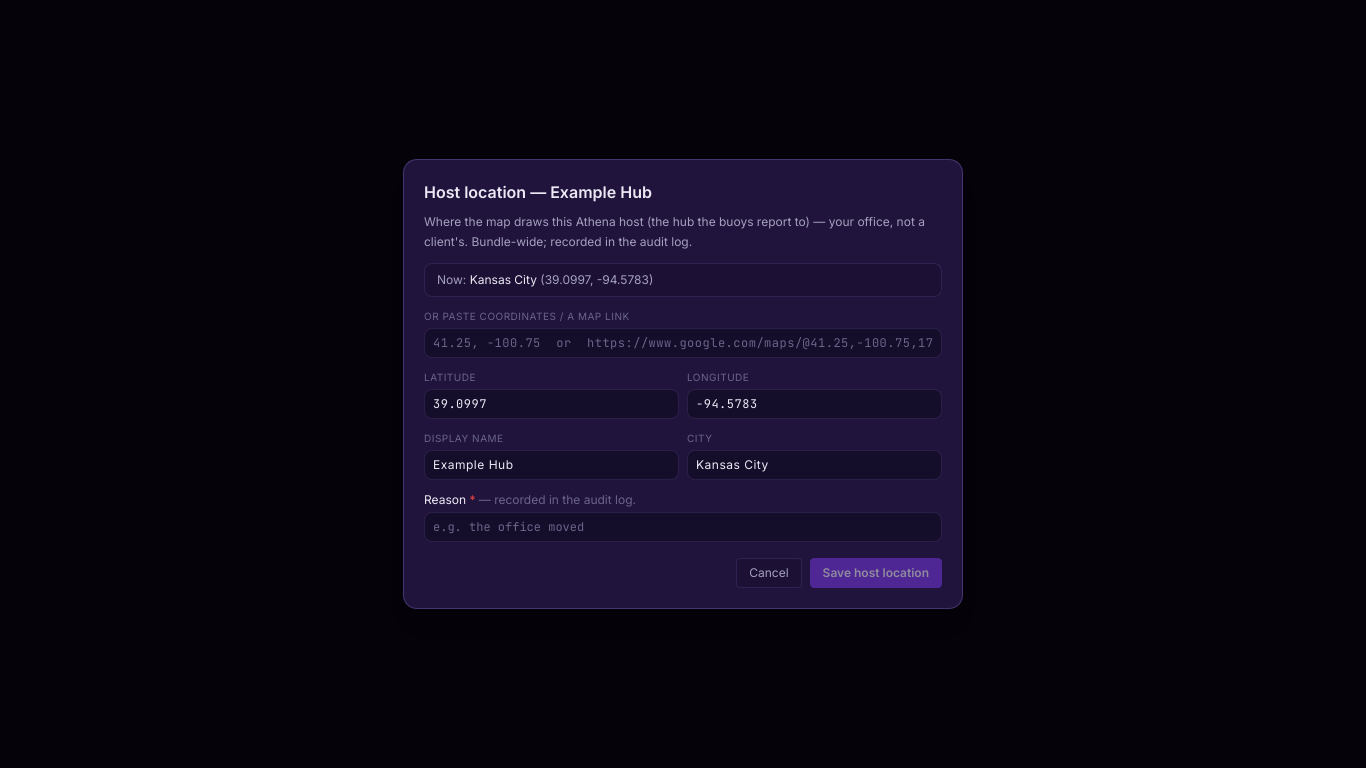
Test case: host location dialog › no Find when the lookup is off; a pasted map link works
Replace the text in the field named "paste coordinates or map link" with "https://www.google.com/maps/@41.26,-100.75,17z". click: [683, 343]
box: [424, 328, 942, 358]
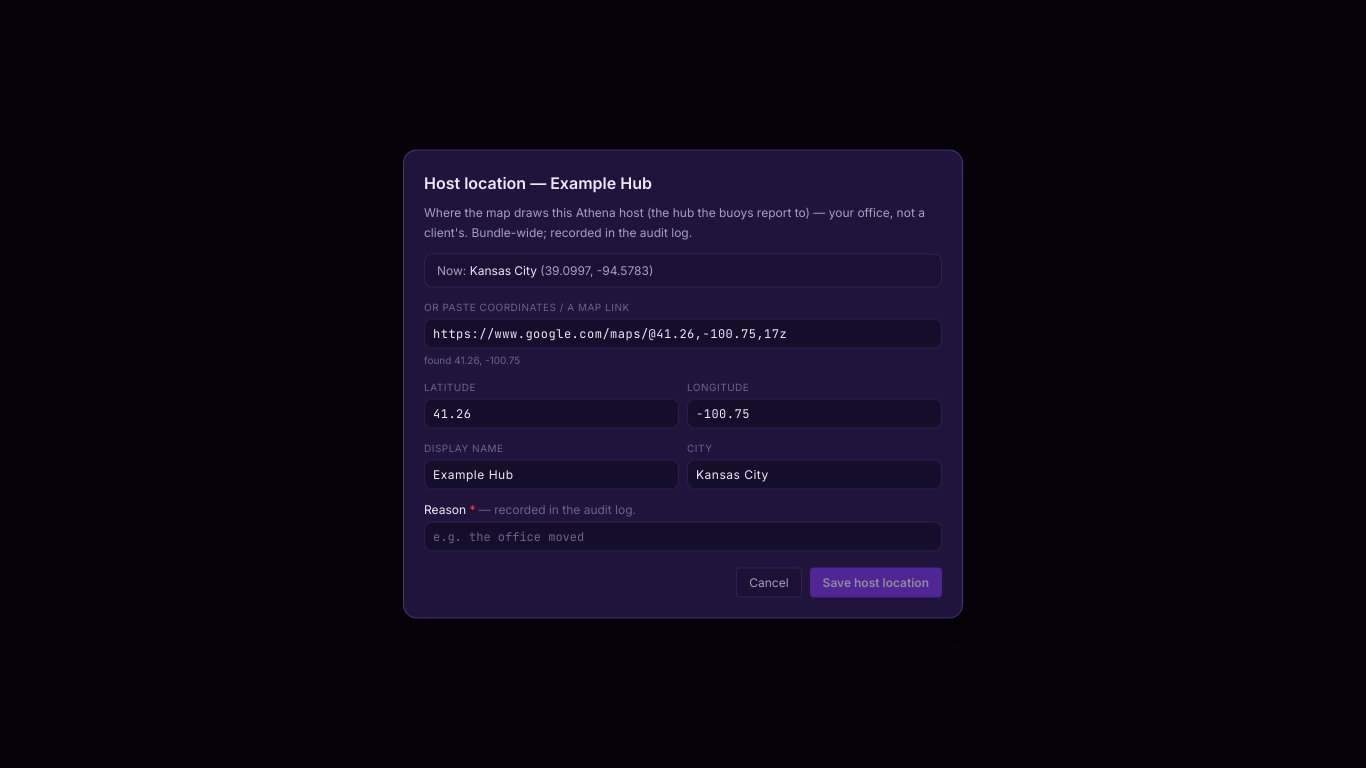
Check: the field labelled "latitude" holds "41.26"
Check: the field labelled "longitude" holds "-100.75", box [687, 398, 942, 428]
Replace the text in the field labelled "latitude" with "0". click: [552, 414]
box: [424, 398, 679, 428]
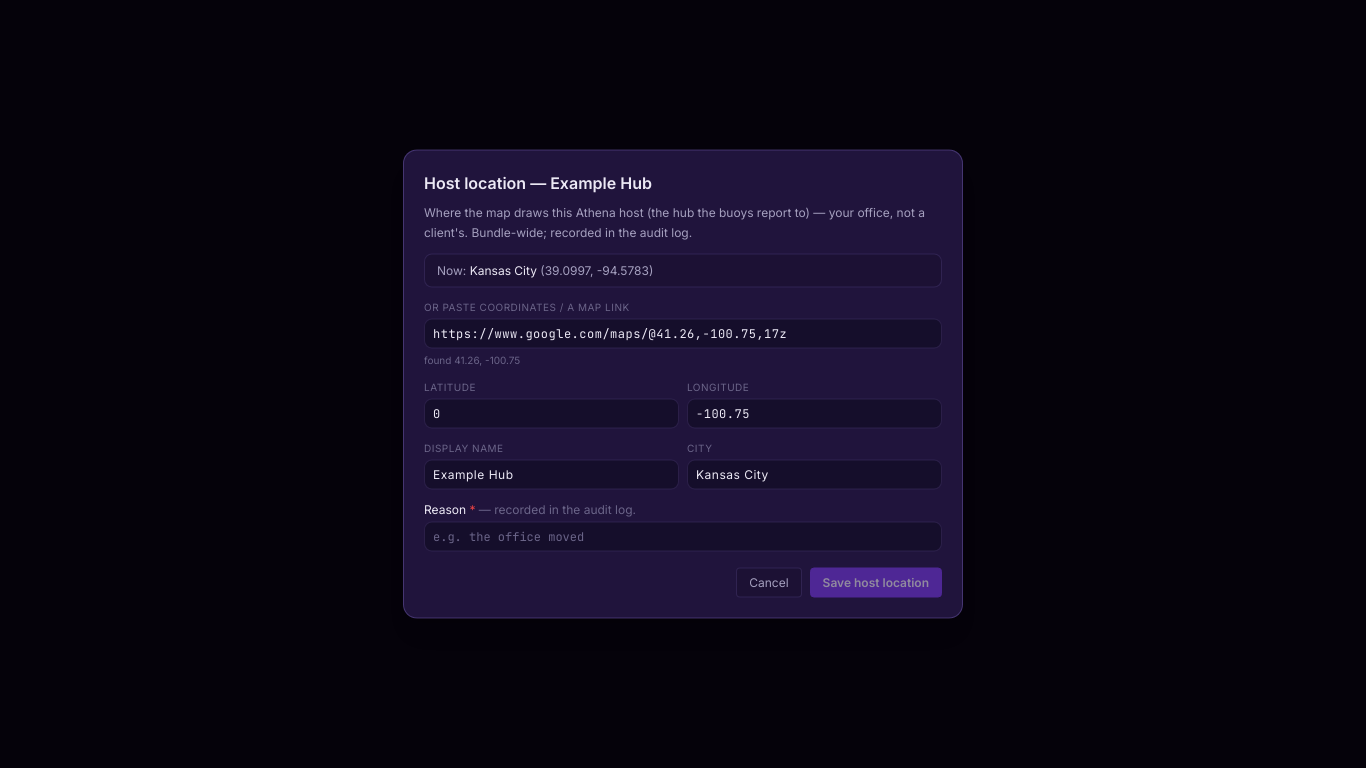
Type "0" into the field labelled "longitude". click: [814, 414]
box: [687, 398, 942, 428]
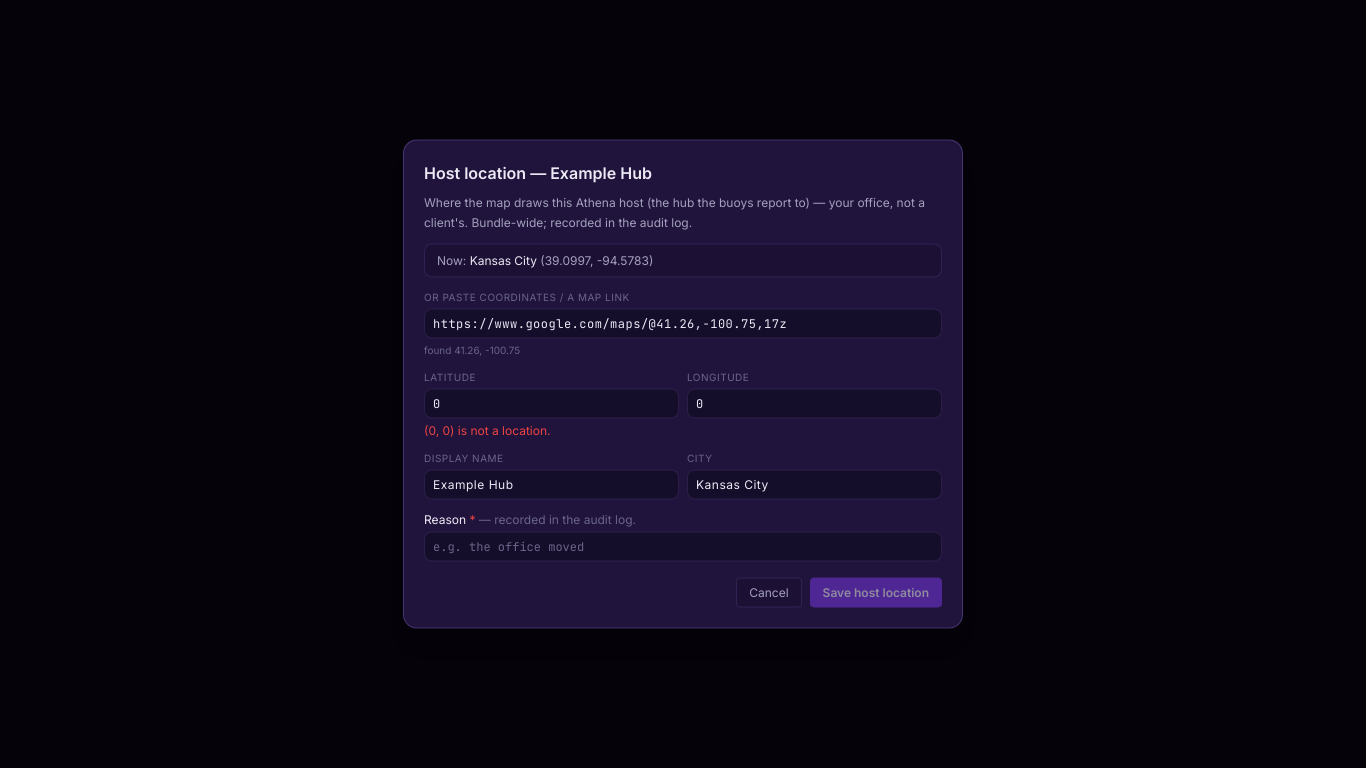
Check: the text with test id "host-loc-invalid" shows "(0, 0) is not a location", box [424, 422, 550, 438]
